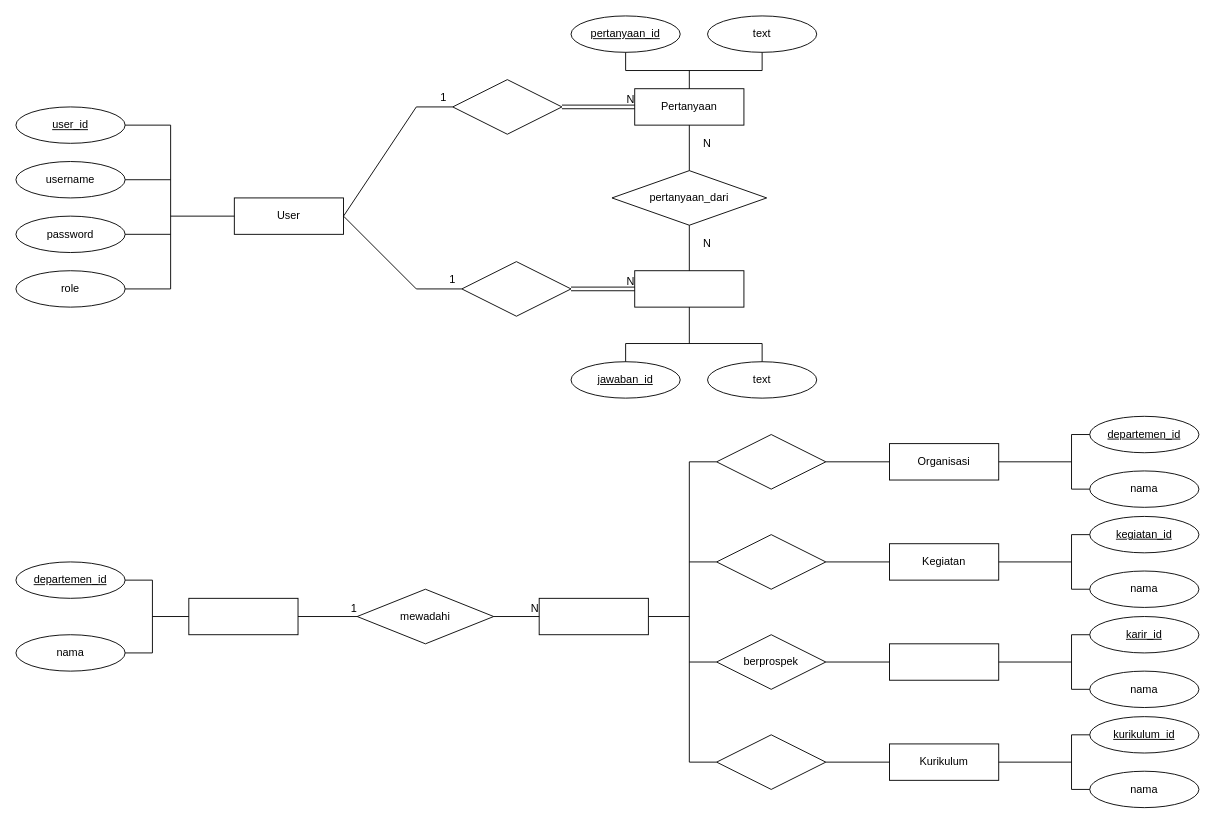
The diagram is 1215 pixels wide and 824 high, and some of its shapes have lost their labels. The shapes that lost their labels are listed below. From the top down, each one's centre as x and y in pixels, then its label:
(507,106): bertanya
(516,288): menjawab
(689,288): Jawaban
(771,461): berisi
(771,561): berkegiatan
(243,616): Departemen
(593,616): Jurusan
(944,661): Karir
(771,761): punya
